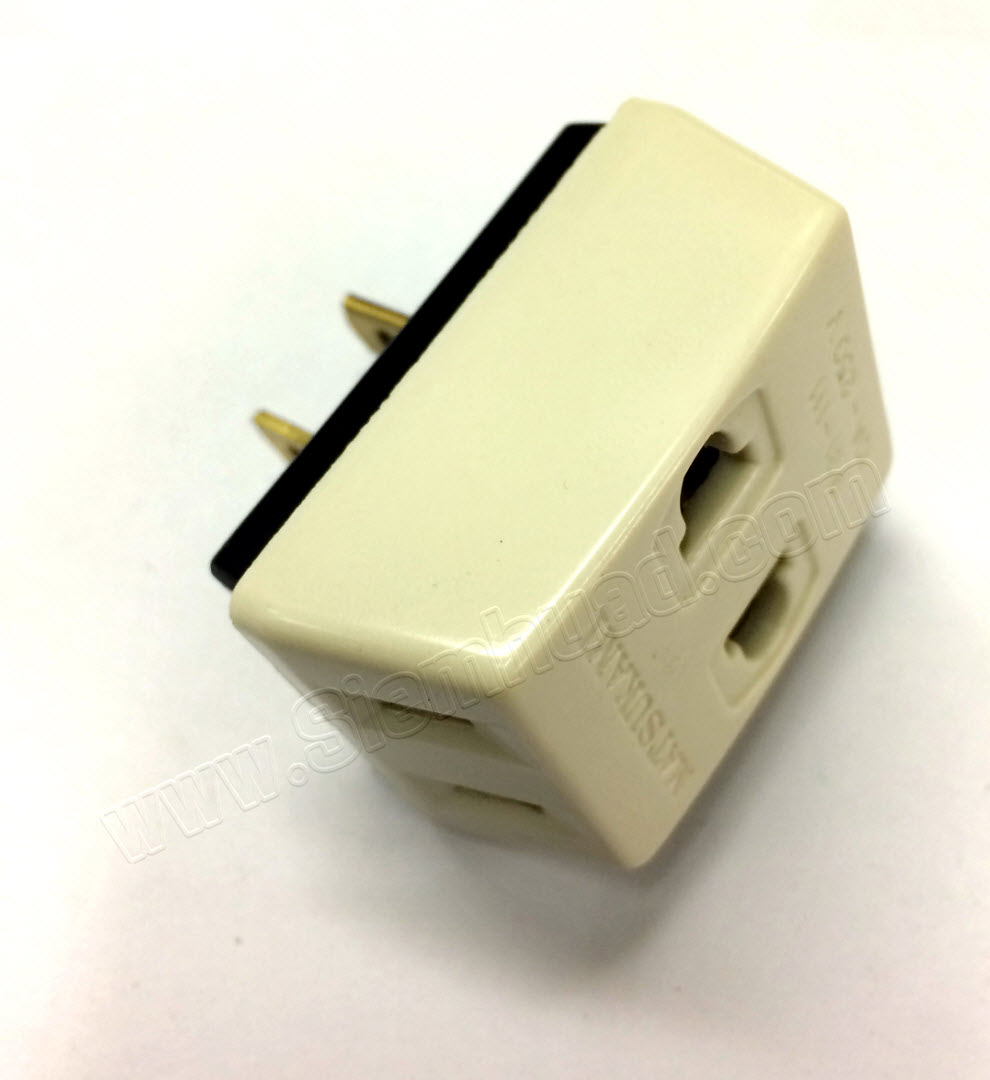Three_eye_plug: (198, 84, 910, 888)
